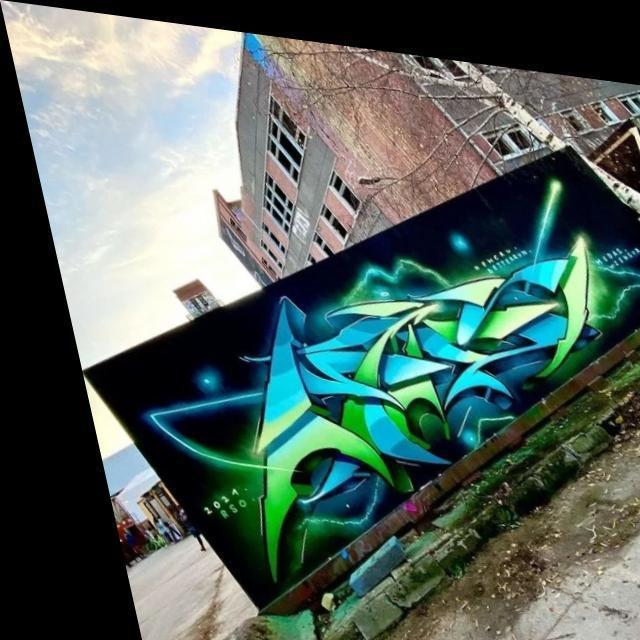nonspitting: (143, 180, 640, 584)
